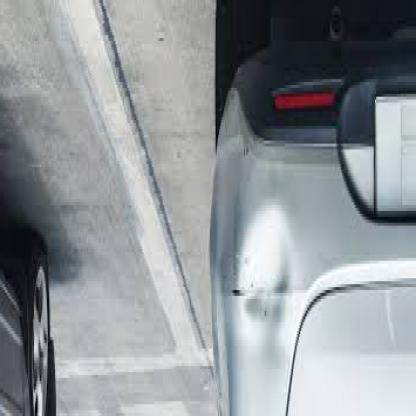dent: (233, 192, 294, 362)
